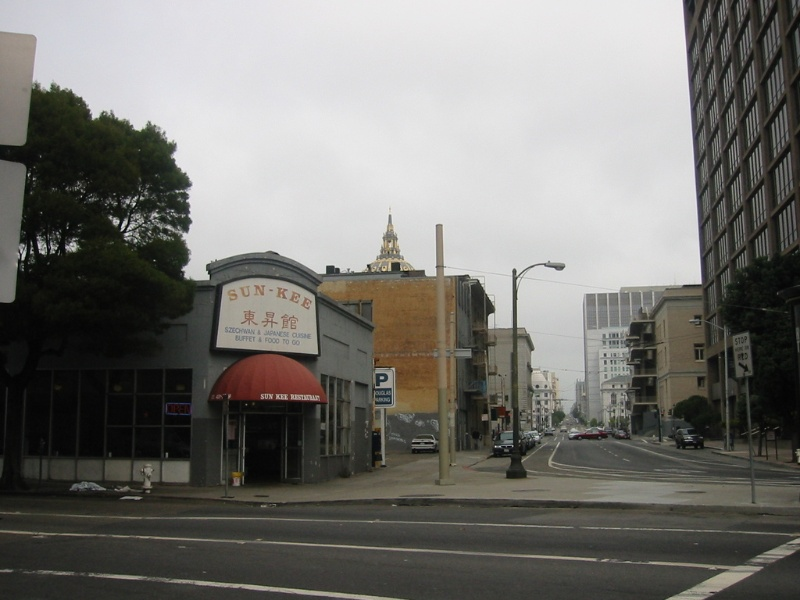parking: (374, 366, 395, 390)
